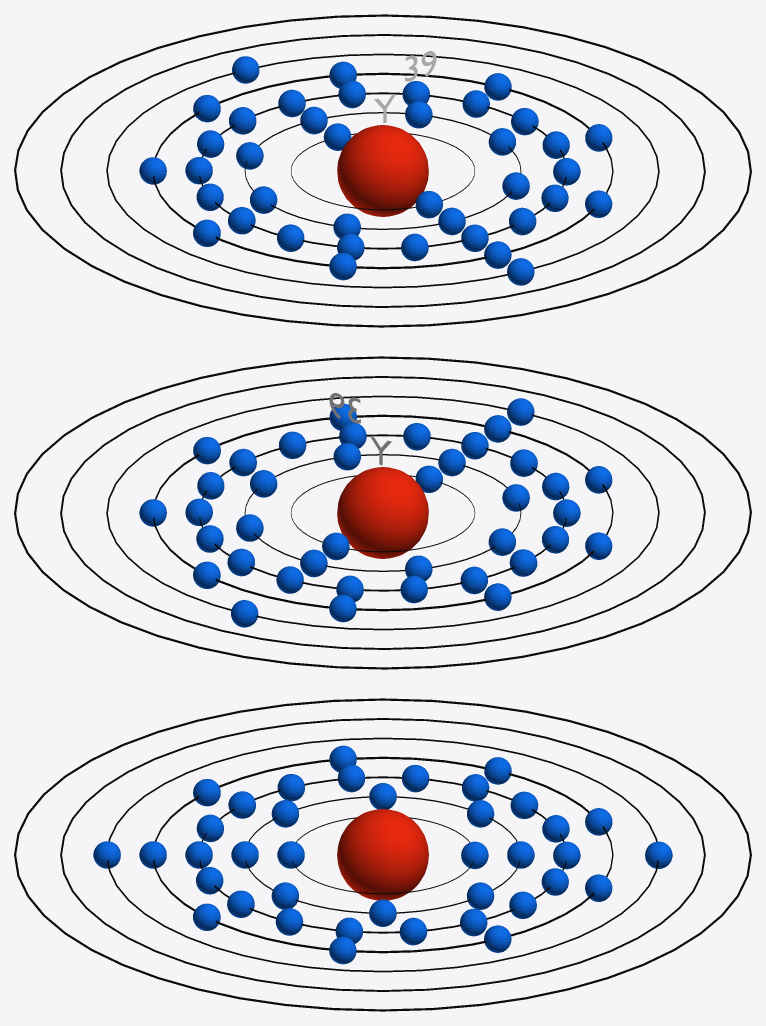
The picture shows the model from 3 angles, top to bottom: view 1: azimuth 30°, elevation 25°; view 2: azimuth 150°, elevation 25°; view 3: azimuth 270°, elevation 25°; orthographic projection.
Visible parts, largest first — view 1: Y3, Proton, Y4, Y2, n7, n6, n5, n4, Y5, Y1, n3, n2; view 2: Y3, Proton, Y4, Y2, n7, n6, n5, n4, Y5, Y1, n3, n2; view 3: Y3, Proton, Y4, Y2, n7, n6, n5, n4, Y1, Y5, n3, n2 (+1 smaller).
Part boxes in pixels (x1,y1,x2,y2): Y3: (185, 80, 580, 261); Proton: (337, 125, 428, 216); Y4: (139, 61, 612, 280); Y2: (236, 101, 529, 238); n7: (14, 14, 751, 327); n6: (60, 34, 705, 307); n5: (106, 53, 659, 288); n4: (153, 72, 613, 269); Y5: (232, 56, 534, 285); Y1: (323, 123, 442, 218); n3: (199, 92, 566, 249); n2: (244, 112, 521, 229); Y3: (185, 422, 580, 603); Proton: (337, 467, 428, 558); Y4: (139, 403, 612, 622); Y2: (236, 443, 529, 580); n7: (14, 356, 751, 669); n6: (60, 376, 705, 649); n5: (106, 395, 659, 630); n4: (153, 414, 613, 611); Y5: (231, 398, 534, 627); Y1: (322, 465, 442, 560); n3: (199, 434, 566, 591); n2: (244, 454, 521, 571); Y3: (185, 764, 580, 945); Proton: (337, 809, 428, 900); Y4: (139, 745, 612, 964); Y2: (231, 783, 534, 926); n7: (14, 698, 751, 1011); n6: (60, 718, 705, 991); n5: (107, 737, 658, 972); n4: (153, 756, 613, 953); Y1: (277, 841, 488, 869); Y5: (93, 841, 672, 868); n3: (199, 776, 566, 933); n2: (245, 796, 520, 913).
Bounding box in the file's own units: 802 × 180 × 802.
